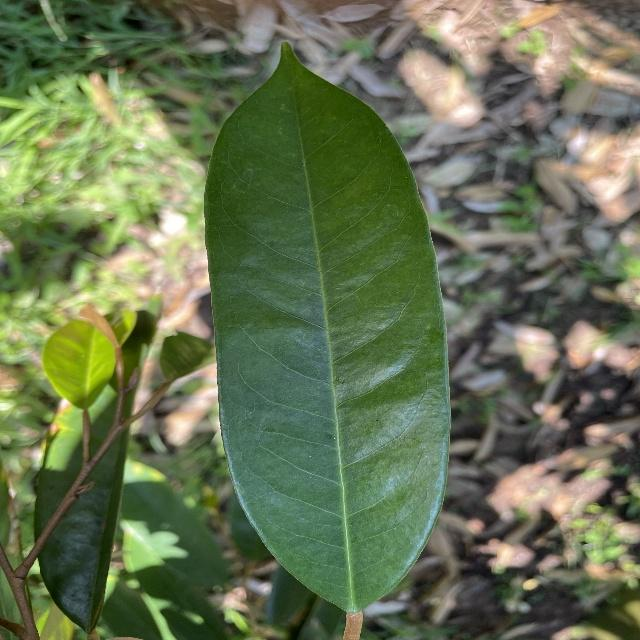No Disease: (195, 37, 458, 623)
